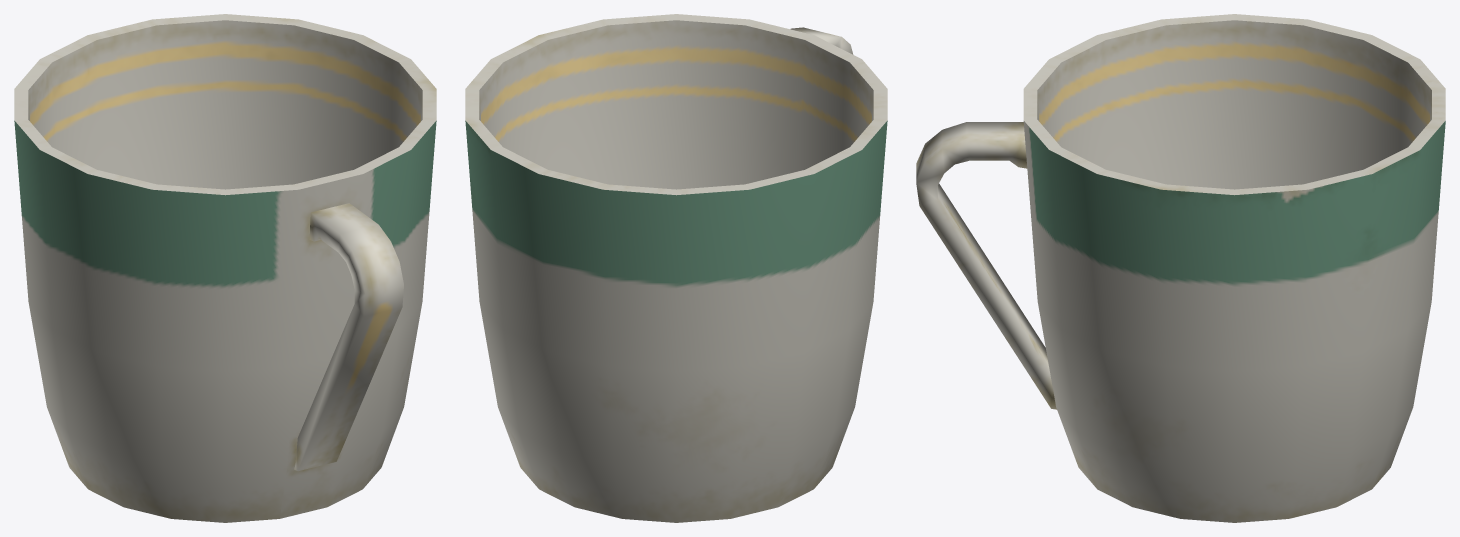
The model's file is Cup03.FBX.
3 views of the same model, side by side, from view 1: azimuth 30°, elevation 25°; view 2: azimuth 150°, elevation 25°; view 3: azimuth 270°, elevation 25° (orthographic).
Parts seen in each view (by area): view 1: Cup03_LOD0; view 2: Cup03_LOD0; view 3: Cup03_LOD0.
Part boxes in pixels (x1,y1,x2,y2): Cup03_LOD0: (14, 14, 436, 522); Cup03_LOD0: (465, 14, 887, 522); Cup03_LOD0: (916, 14, 1445, 522).
Size of the model in its own units: 6.71 by 8.29 by 6.07.
